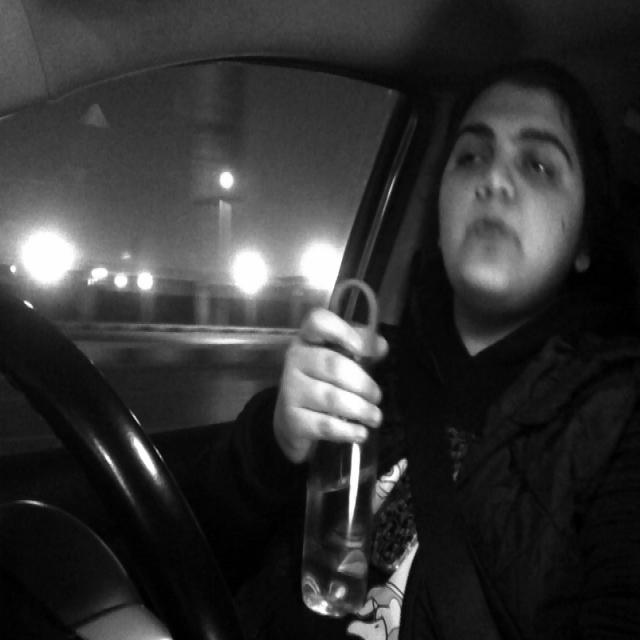drinking: (300, 270, 386, 640)
